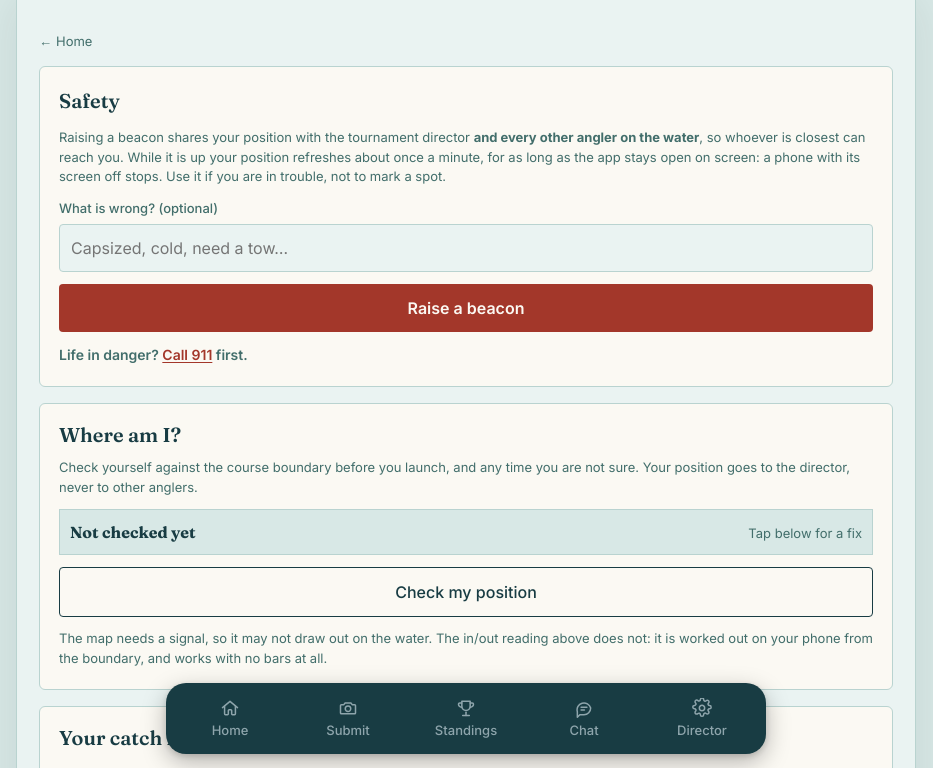
Scenario: raising a beacon › sends the position and the note, and says when it is waiting for signal
The image size is (933, 768).
Type "Capsized" into the field labelled "What is wrong? (optional)".
click(466, 248); type("Capsized")  # box [59,224,873,272]
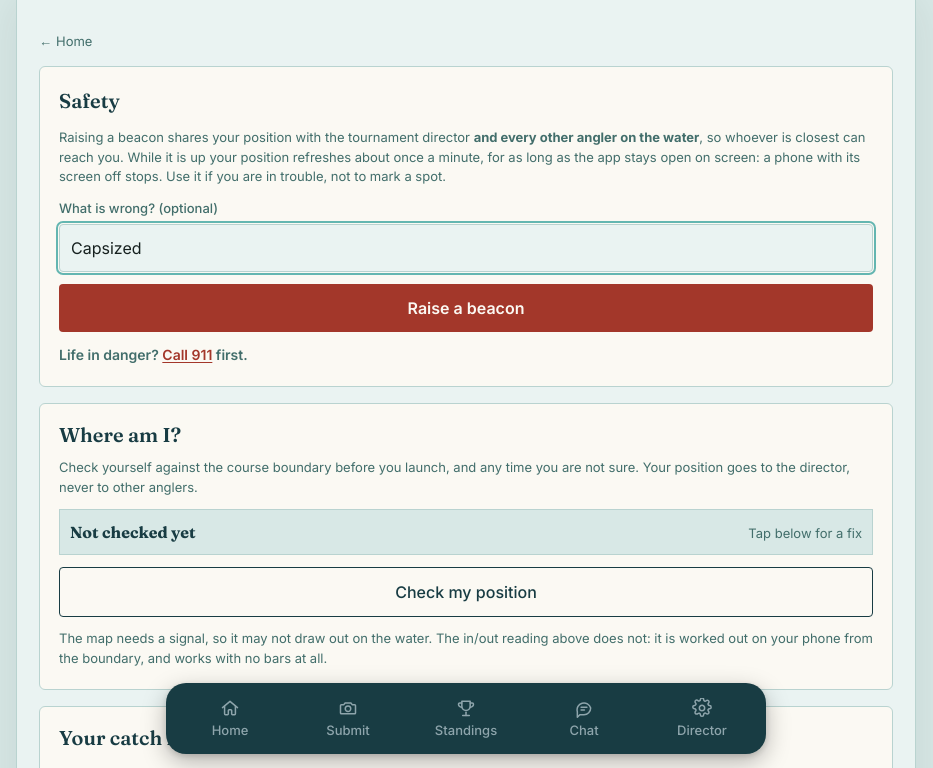
Click the button "Raise a beacon".
click(466, 308)  # box [59,284,873,332]
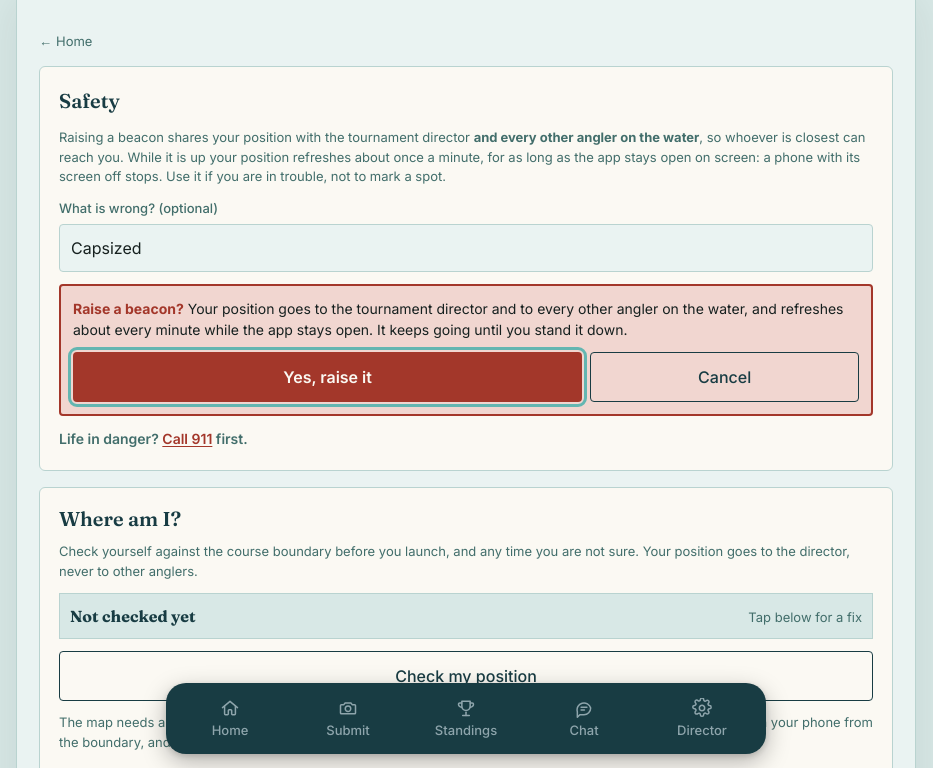
Expected: the button "Yes, raise it" is shown
Click the button "Yes, raise it".
click(328, 377)  # box [73,352,582,402]
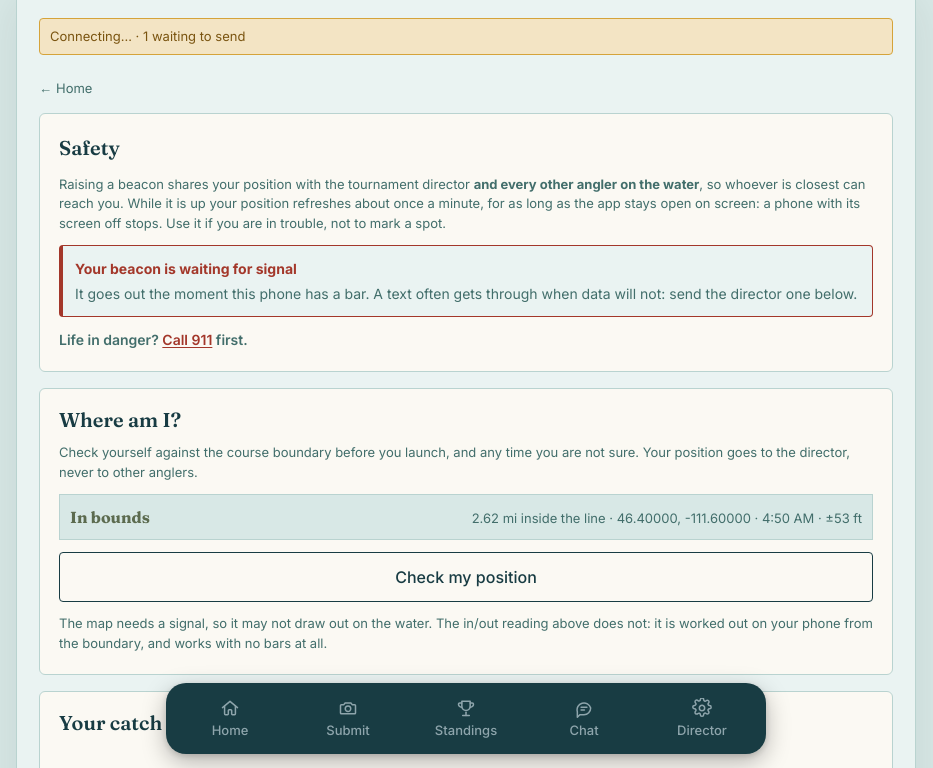
Expected: the text "Your beacon is waiting for signal" is shown, [75,260,297,277]
